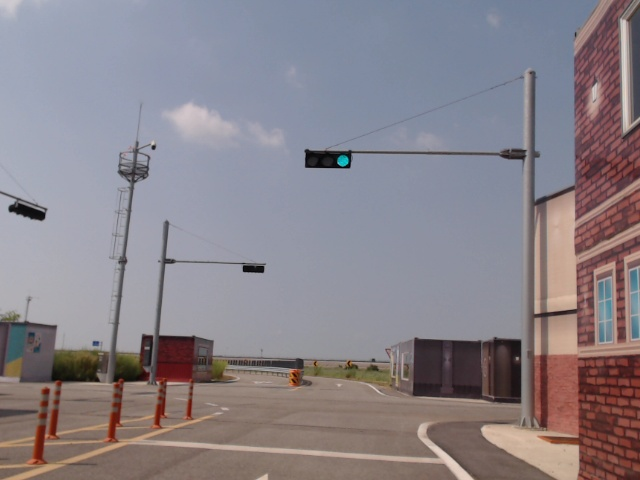green_3: (305, 151, 351, 169)
